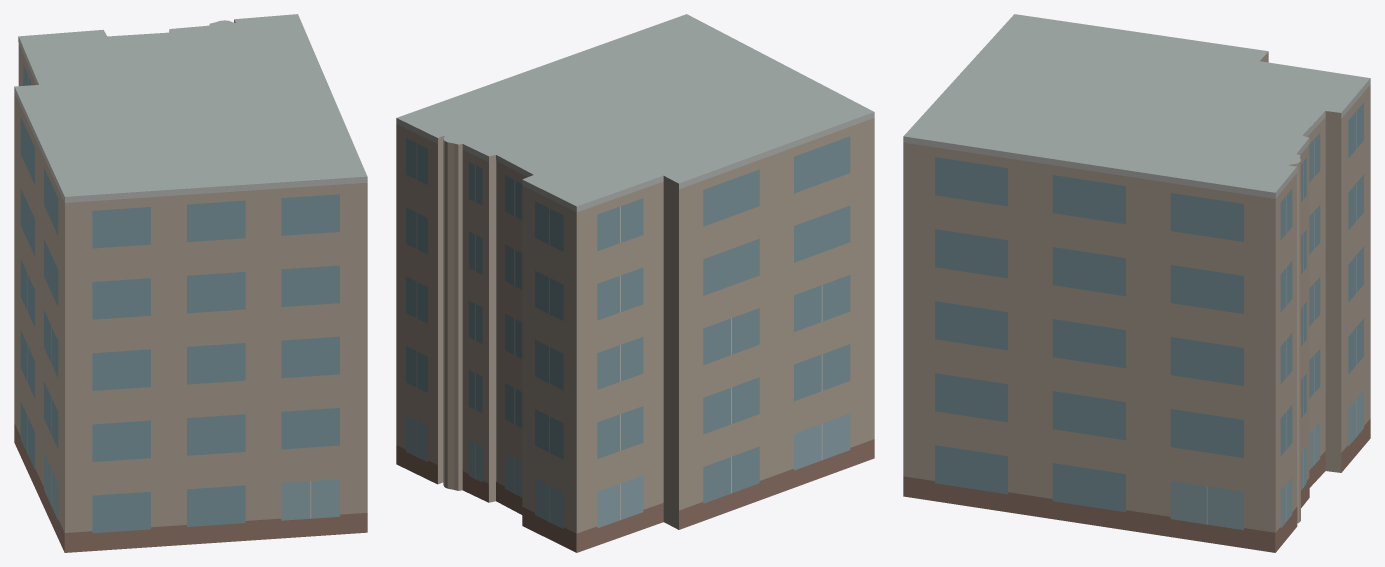
Rendered from survey-upis-32885783.glb.
3 views of the same model, side by side, from view 1: azimuth 30°, elevation 25°; view 2: azimuth 150°, elevation 25°; view 3: azimuth 270°, elevation 25° (orthographic). The views are drawn at different scales.
Visible parts, largest first — view 1: survey-upis-32885783.tmp; view 2: survey-upis-32885783.tmp; view 3: survey-upis-32885783.tmp.
Part boxes in pixels (x1,y1,x2,y2): survey-upis-32885783.tmp: (14,14,367,552); survey-upis-32885783.tmp: (396,14,874,552); survey-upis-32885783.tmp: (903,14,1370,552).
Bounding box in the file's own units: 15.24 × 14.3 × 16.83.
